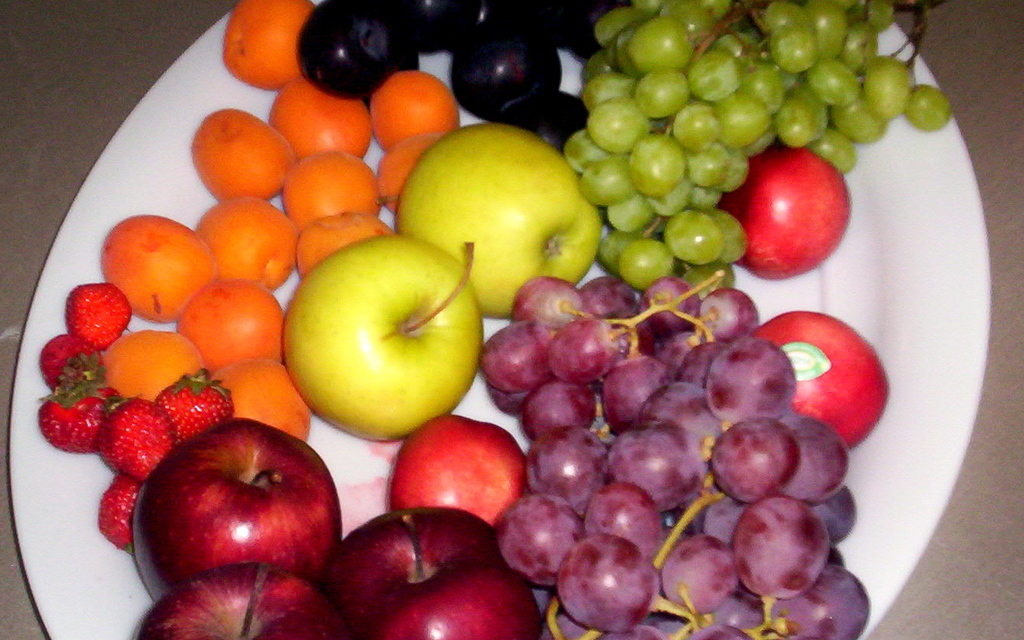Apple: (273, 226, 479, 443), (395, 123, 603, 321), (132, 416, 344, 599), (327, 507, 550, 639), (134, 566, 354, 639)
